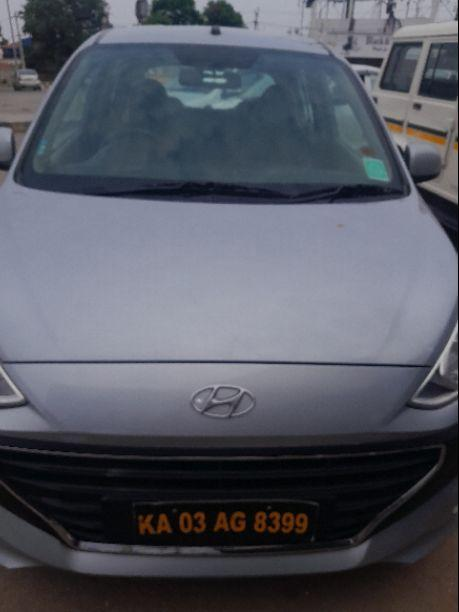license_plate: (127, 496, 320, 548)
